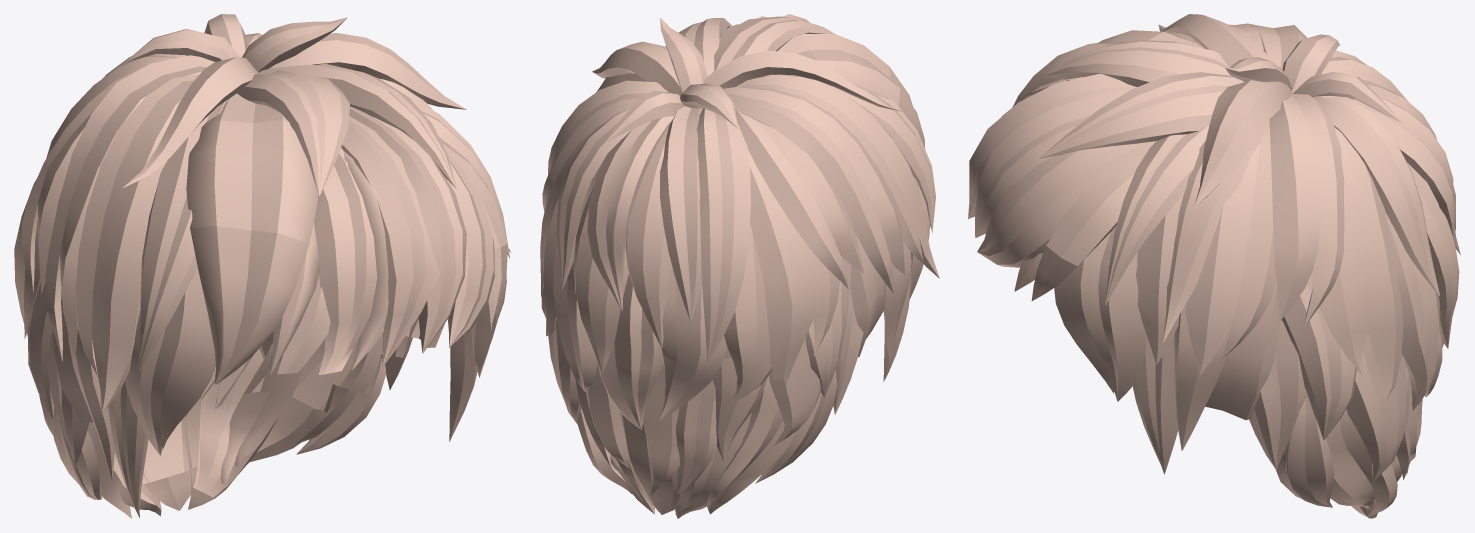
Rendered from Hair_06.fbx.
3 renders of one model, left to right at view 1: azimuth 30°, elevation 25°; view 2: azimuth 150°, elevation 25°; view 3: azimuth 270°, elevation 25°, orthographic. The views are drawn at different scales.
Visible parts, largest first — view 1: Hair_06; view 2: Hair_06; view 3: Hair_06.
Boxes of the visible parts, x1,y1,x2,y2 form: Hair_06: (14,14,511,518); Hair_06: (540,14,939,518); Hair_06: (968,14,1460,518).
Bounding box in the file's own units: 2.06 × 2.48 × 2.29.
